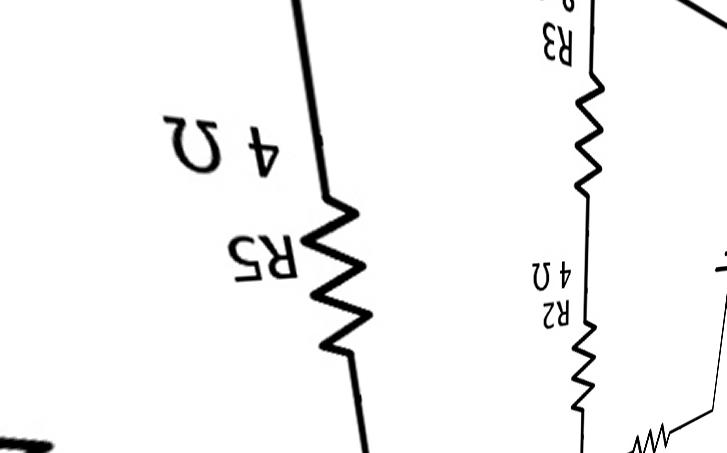resistor: (302, 182, 390, 377), (560, 64, 618, 191), (559, 307, 609, 392)
